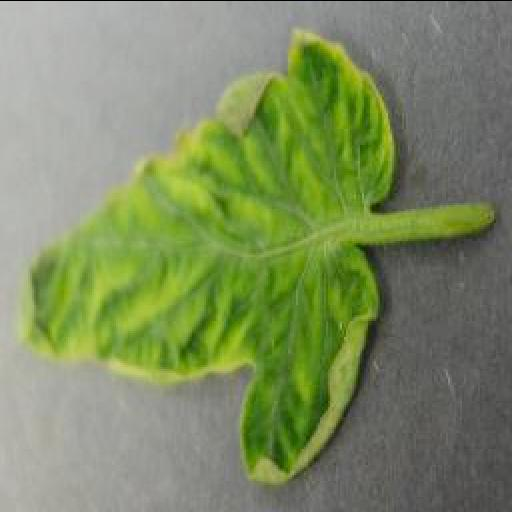disease_tomato: (15, 26, 397, 486)
